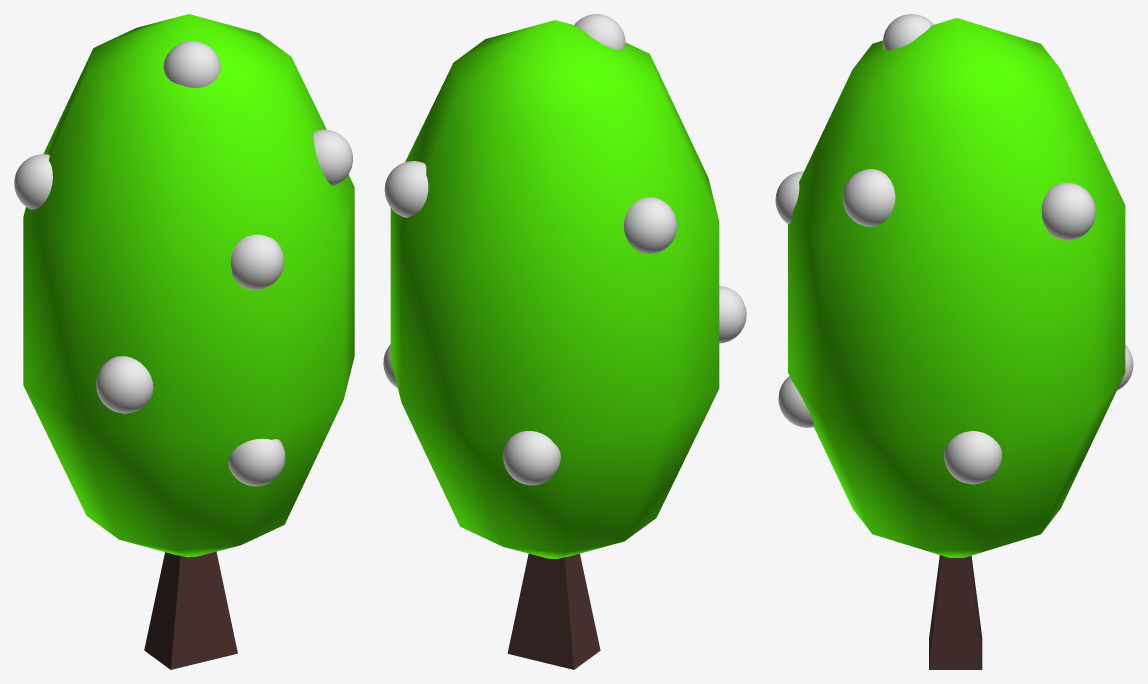
Rendered from TreeD.FBX.
The picture shows the model from 3 angles, left to right: view 1: azimuth 30°, elevation 25°; view 2: azimuth 150°, elevation 25°; view 3: azimuth 270°, elevation 25°; orthographic projection.
Visible parts, largest first — view 1: Sphere001, Box001, Sphere004, Sphere007, Sphere008, Sphere010, Sphere005, Sphere009; view 2: Sphere001, Box001, Sphere003, Sphere005, Sphere006, Sphere004, Sphere010; view 3: Sphere001, Box001, Sphere006, Sphere002, Sphere009, Sphere010, Sphere008, Sphere007.
Part boxes in pixels (x1,y1,x2,y2): Sphere001: [23, 14, 354, 557]; Box001: [144, 551, 237, 669]; Sphere004: [96, 356, 153, 413]; Sphere007: [230, 234, 283, 289]; Sphere008: [228, 438, 285, 486]; Sphere010: [163, 41, 220, 87]; Sphere005: [14, 154, 52, 209]; Sphere009: [313, 129, 352, 185]; Sphere001: [390, 20, 719, 558]; Box001: [507, 553, 600, 669]; Sphere003: [503, 431, 560, 485]; Sphere005: [623, 197, 676, 254]; Sphere006: [384, 161, 428, 217]; Sphere004: [719, 285, 746, 343]; Sphere010: [574, 14, 625, 49]; Sphere001: [788, 18, 1125, 557]; Box001: [929, 555, 982, 669]; Sphere006: [1041, 182, 1095, 240]; Sphere002: [944, 431, 1001, 484]; Sphere009: [842, 169, 895, 226]; Sphere010: [882, 14, 933, 50]; Sphere008: [778, 376, 814, 427]; Sphere007: [775, 171, 803, 224].
Size of the model in its own units: 3.55 by 7.06 by 3.61.
